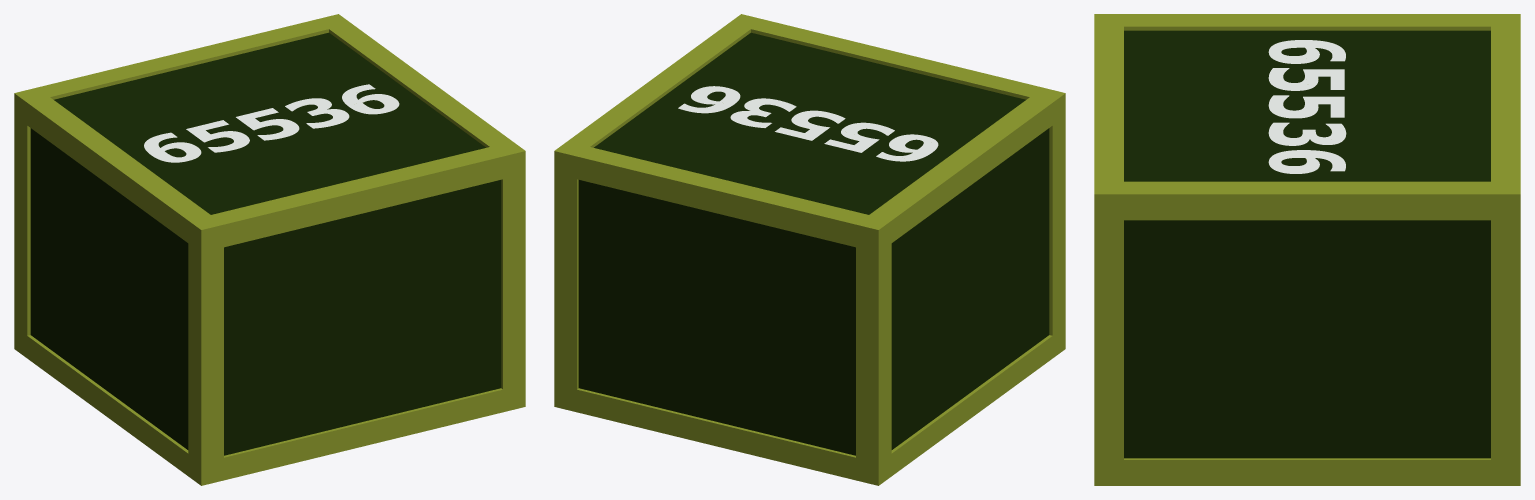
Rendered from 65536Prefab.fbx.
The picture shows the model from 3 angles, left to right: view 1: azimuth 30°, elevation 25°; view 2: azimuth 150°, elevation 25°; view 3: azimuth 270°, elevation 25°; orthographic projection. The views are drawn at different scales.
Visible parts, largest first — view 1: Text.015; view 2: Text.015; view 3: Text.015.
Boxes of the visible parts, bbox=[...] form: Text.015: bbox=[14, 14, 525, 485]; Text.015: bbox=[554, 14, 1065, 485]; Text.015: bbox=[1094, 14, 1520, 485].
Bounding box in the file's own units: 194 × 146 × 194.
